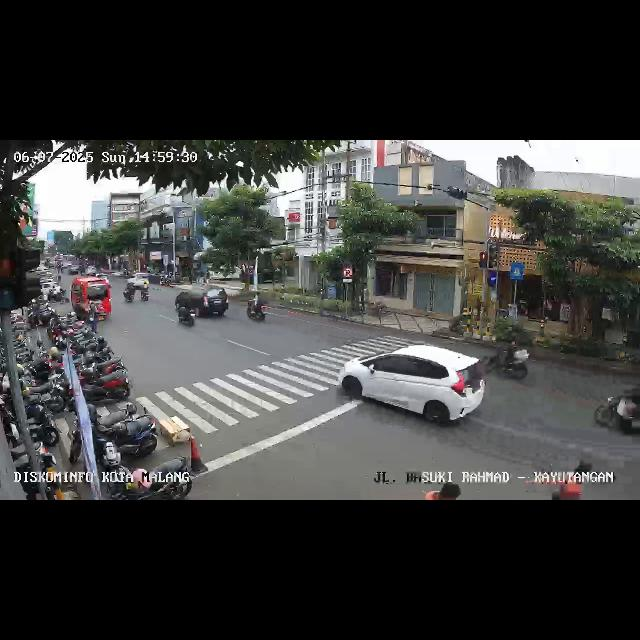car: (336, 340, 486, 434), (178, 286, 230, 322), (71, 276, 111, 322), (123, 274, 151, 300)
motorcycle: (592, 381, 640, 444), (486, 328, 532, 382), (174, 292, 200, 328), (246, 292, 268, 322), (123, 279, 135, 305), (140, 276, 150, 304)
